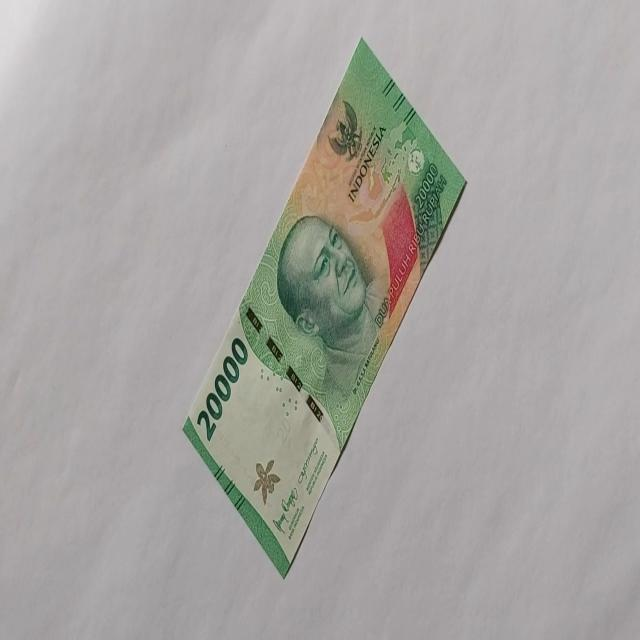dua puluh ribu rupiah: (181, 34, 467, 578), (276, 212, 382, 400), (196, 335, 248, 443)
